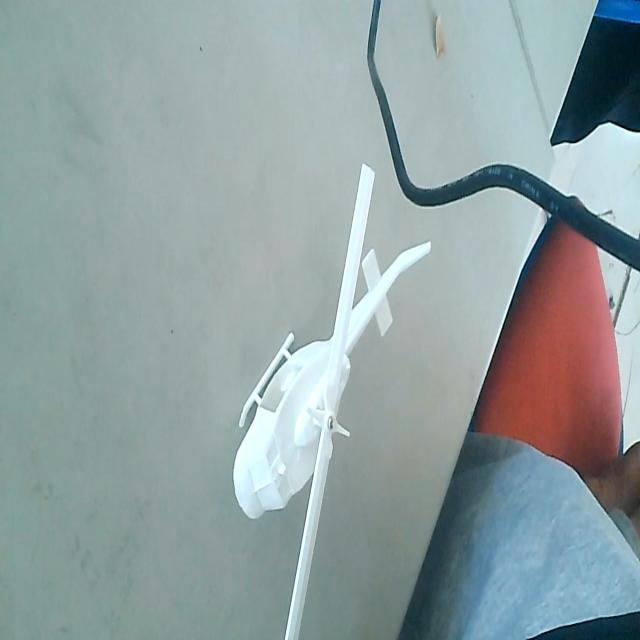Helicopter: (228, 161, 432, 640)
